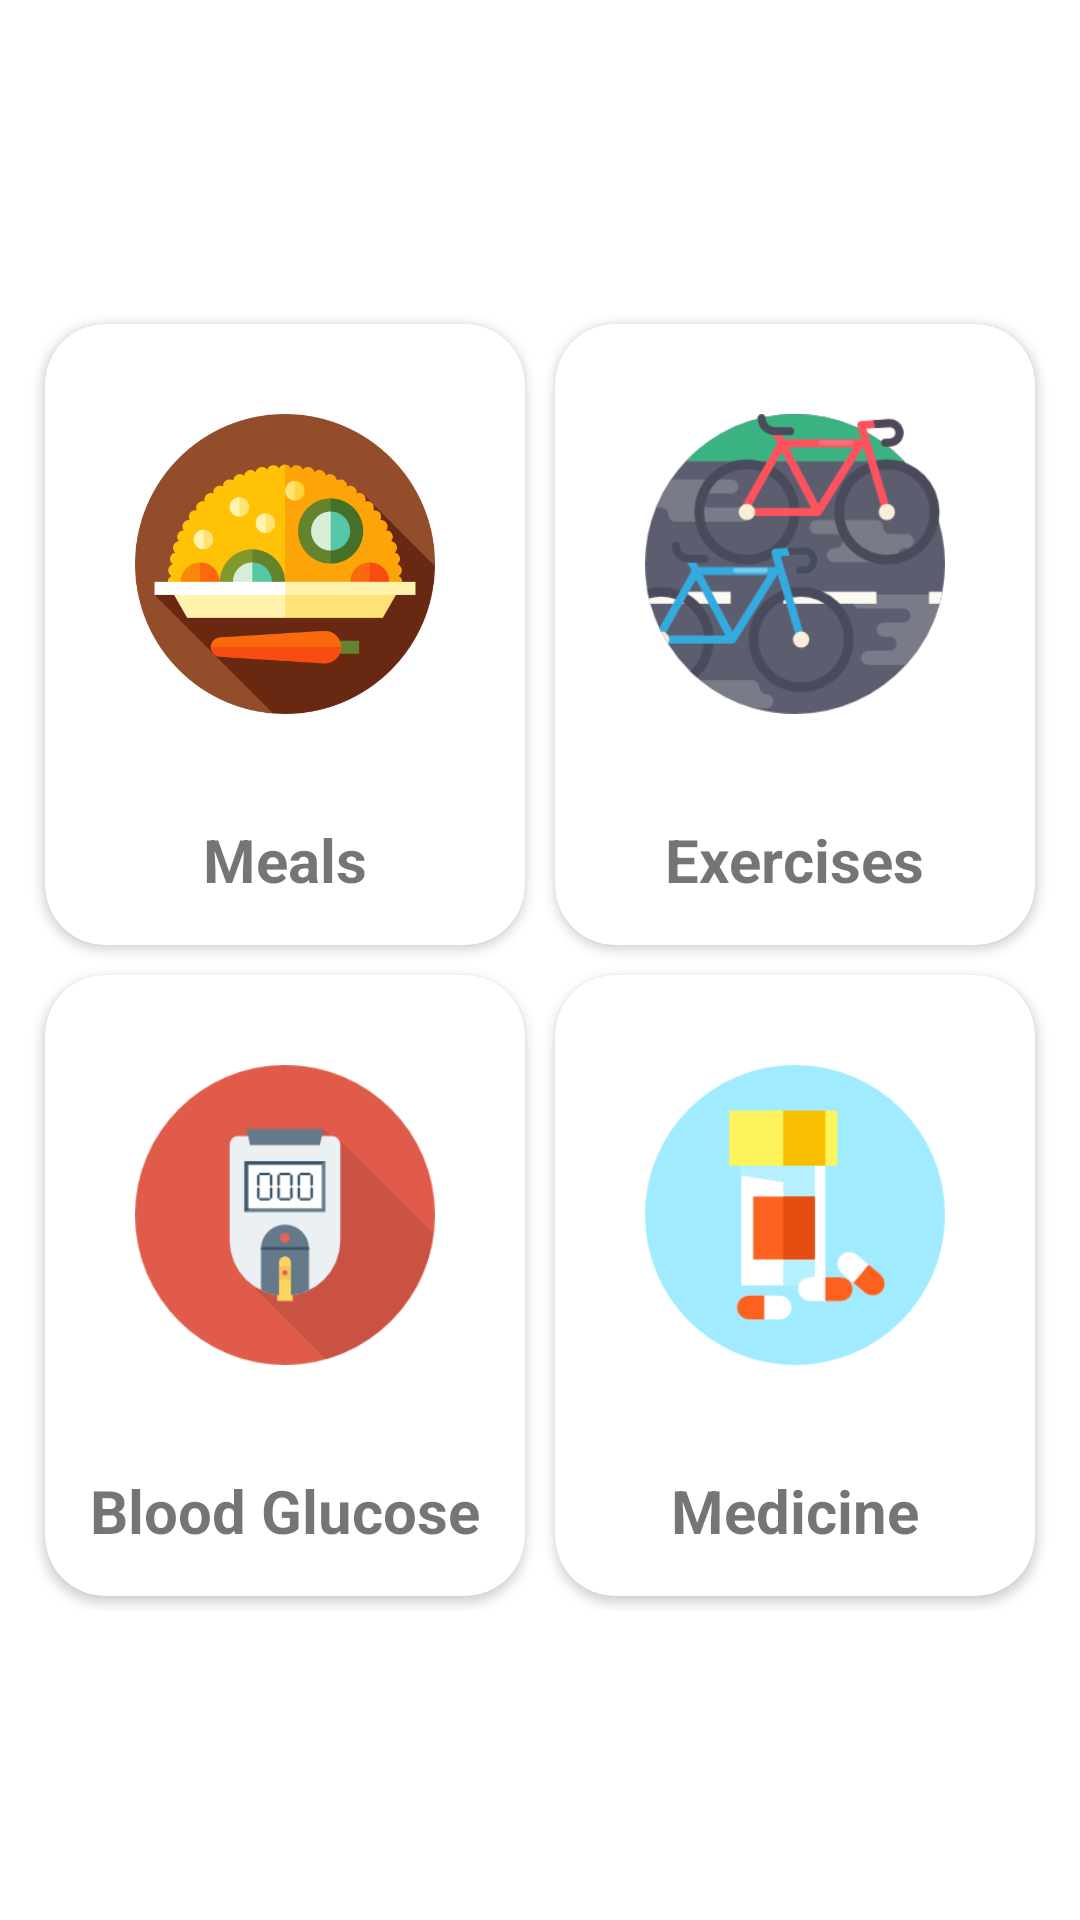

Named icons in this screenshot (1080px x 1920px) and their bounding boxes, {"x1": x1, "y1": y1, "x2": x2, "y2": y2}:
bicycle: {"x1": 645, "y1": 414, "x2": 945, "y2": 714}
glucometer: {"x1": 135, "y1": 1065, "x2": 435, "y2": 1365}
